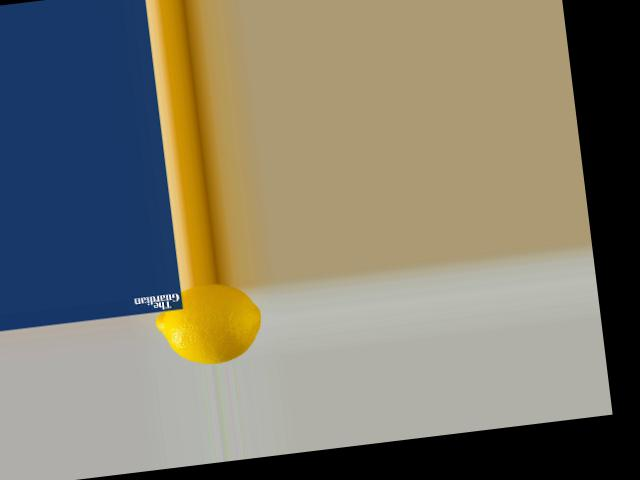lemon: (145, 277, 272, 370)
